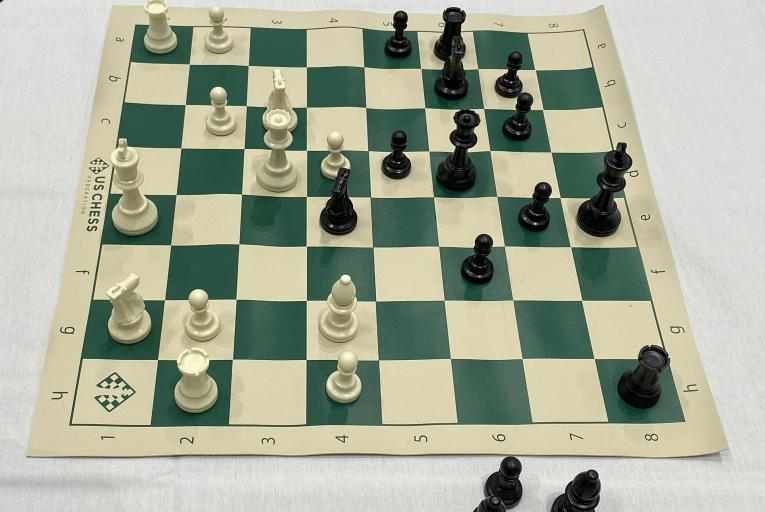black-king: (578, 138, 635, 240)
black-knight: (315, 167, 367, 239), (435, 36, 468, 102)
black-pawn: (516, 179, 556, 236), (379, 130, 416, 183), (462, 232, 497, 288), (381, 8, 417, 62), (501, 91, 537, 144), (492, 50, 526, 99)
black-queen: (435, 106, 485, 199)
black-rook: (615, 339, 672, 413), (434, 7, 472, 65)
white-bishop: (314, 273, 365, 346)
white-king: (104, 136, 164, 239)
white-knight: (96, 270, 159, 348), (261, 67, 303, 136)
white-pawn: (319, 348, 367, 411), (200, 86, 245, 140), (184, 287, 223, 344), (317, 126, 355, 182), (200, 7, 239, 58)
white-queen: (257, 109, 306, 196)
white-rook: (168, 346, 223, 416), (138, 1, 182, 58)
